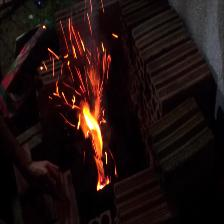fire: (46, 36, 141, 194)
